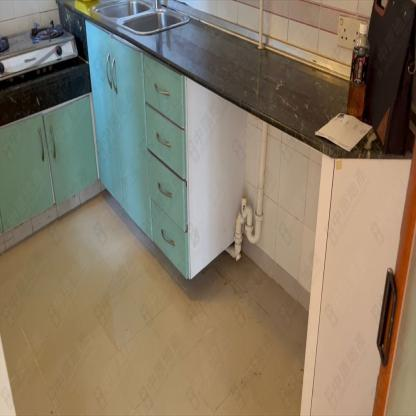Cupboard: (1, 16, 189, 278)
Sink: (89, 1, 188, 37)
Stove: (0, 20, 77, 82)
